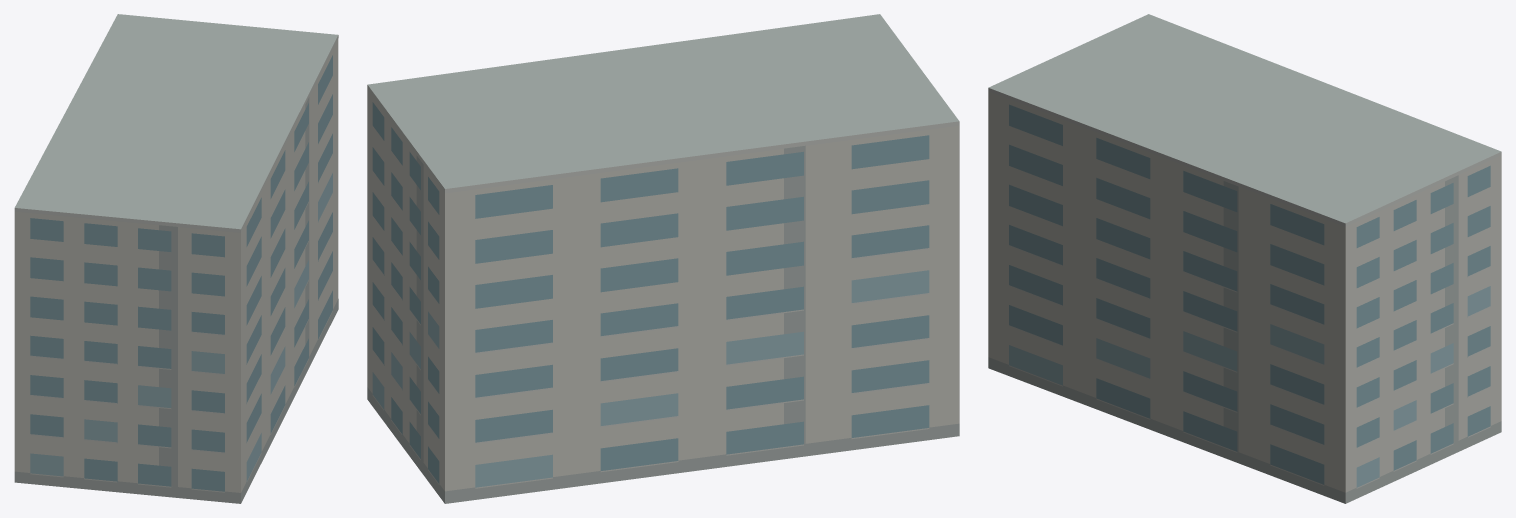
The model's file is survey-upis-32846775.glb.
3 renders of one model, left to right at view 1: azimuth 30°, elevation 25°; view 2: azimuth 150°, elevation 25°; view 3: azimuth 270°, elevation 25°, orthographic. The views are drawn at different scales.
Parts seen in each view (by area): view 1: survey-upis-32846775.tmp; view 2: survey-upis-32846775.tmp; view 3: survey-upis-32846775.tmp.
Part boxes in pixels (box(x1,y1,x2,y2)): survey-upis-32846775.tmp: box(14, 14, 338, 503); survey-upis-32846775.tmp: box(367, 14, 959, 503); survey-upis-32846775.tmp: box(988, 14, 1501, 503).
Bounding box in the file's own units: 29.47 × 18.4 × 30.53.
